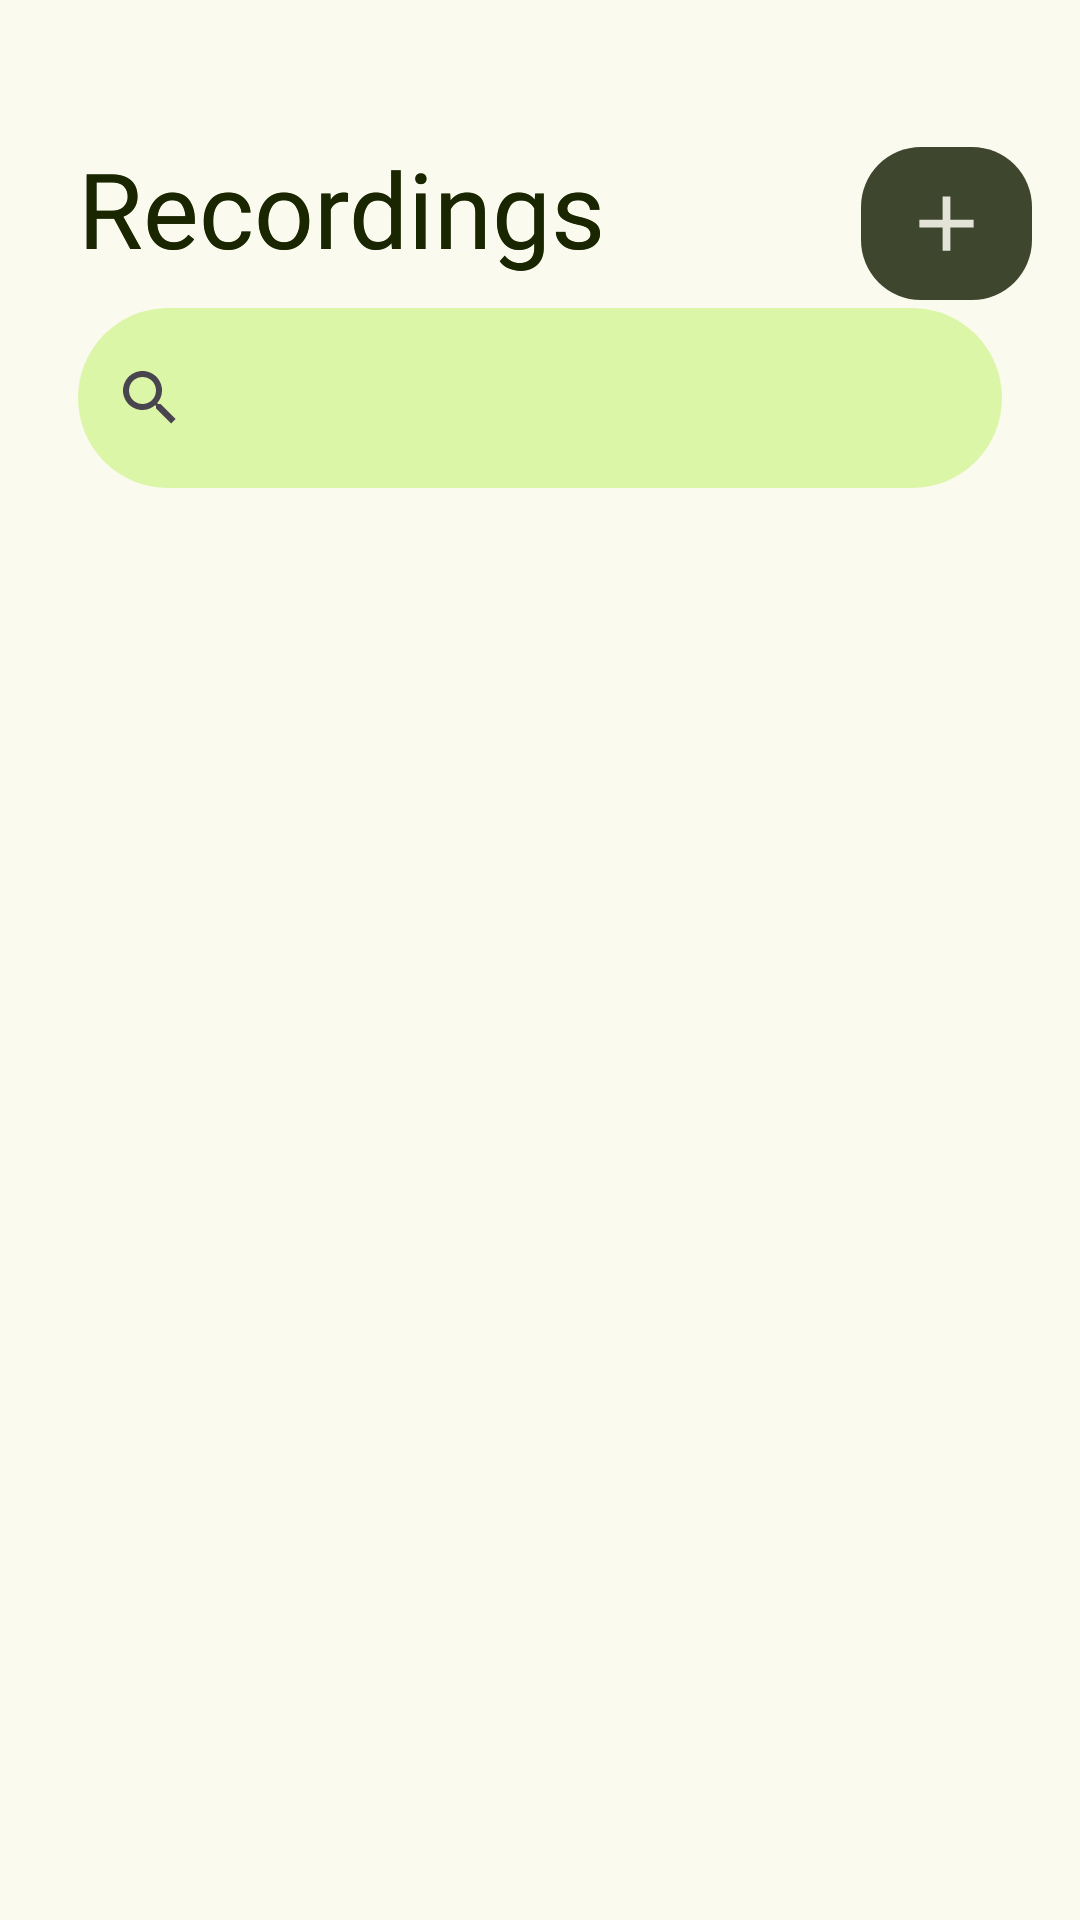

Where to tap for icons on this 1080x1920 app screen, as point (x, y):
add: point (946, 223)
